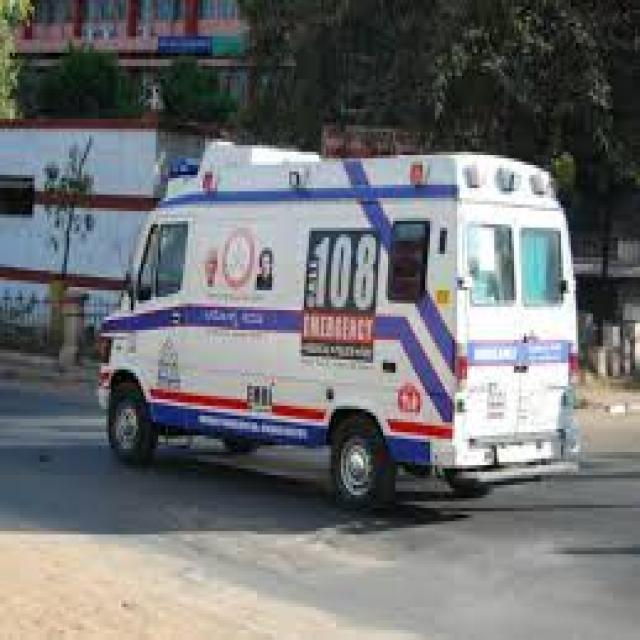Ambulance: (96, 138, 603, 551)
